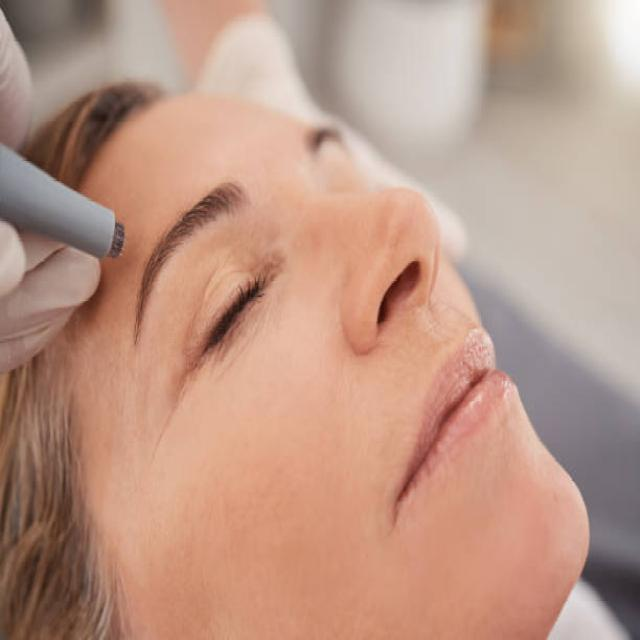dry: (126, 369, 376, 624)
